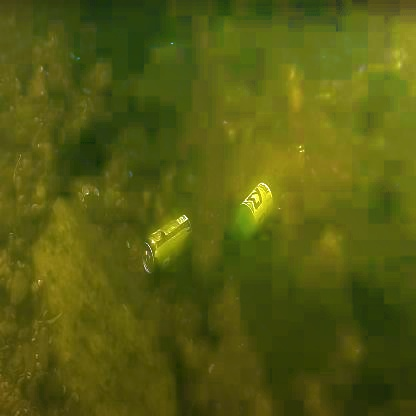can: (122, 212, 207, 281)
pbottle: (226, 150, 280, 255)
